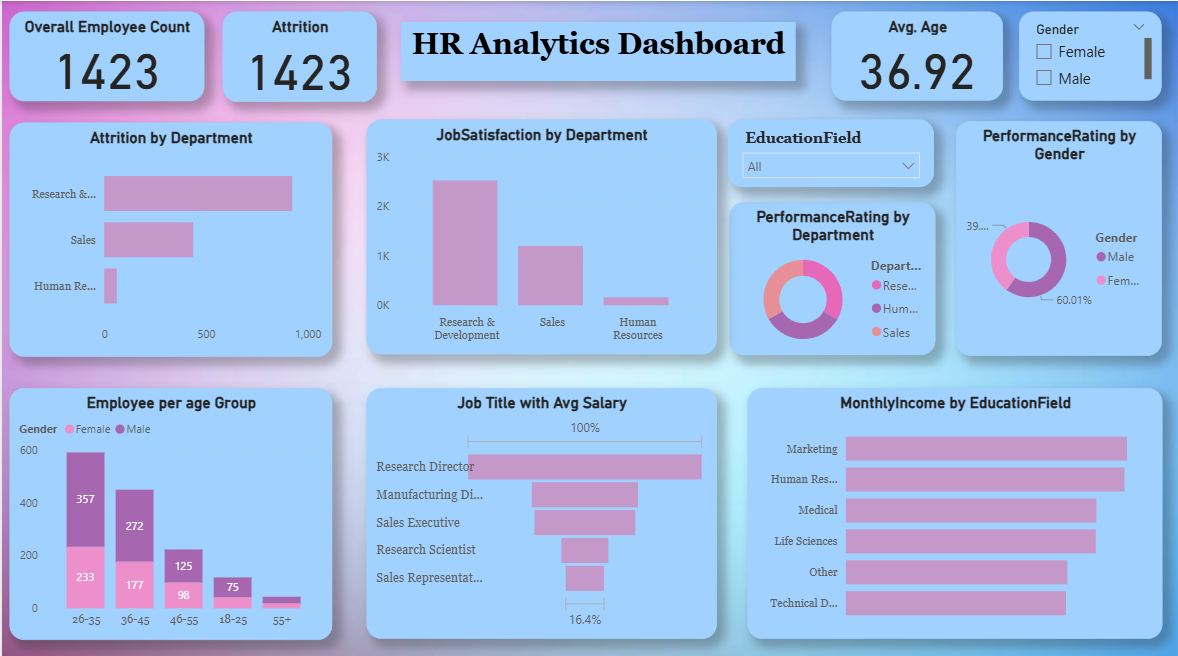

Layout of this report page (visuals, bound fields, positions):
{"tool":"powerbi","page":{"name":"Page 1","canvas":[1280,720],"ordinal":0},"visuals":[{"type":"textbox","box":[432.9,23.4,428.3,64.1],"z":0},{"type":"barChart","title":"Attrition by Department","fields":{"Category":["HR_Analytics.Department"],"Y":["CountNonNull(HR_Analytics.Attrition)"]},"box":[8.1,131.8,349.7,253.7],"z":1000},{"type":"funnel","title":"Job Title with Avg Salary","fields":{"Category":["HR_Analytics.JobRole"],"Y":["Avg(HR_Analytics.MonthlyIncome)"]},"box":[395.4,420.4,379.8,272],"z":2000},{"type":"columnChart","title":"Employee per age Group","fields":{"Category":["HR_Analytics.AgeGroup"],"Y":["CountNonNull(HR_Analytics.EmployeeNumber)"],"Series":["HR_Analytics.Gender"]},"box":[8.1,419.6,349.7,273.3],"z":3000},{"type":"barChart","title":"MonthlyIncome by EducationField ","fields":{"Category":["HR_Analytics.EducationField"],"Y":["Avg(HR_Analytics.MonthlyIncome)"]},"box":[808.1,420.4,450.1,272],"z":4000},{"type":"donutChart","title":"PerformanceRating by Department","fields":{"Category":["HR_Analytics.Department"],"Y":["Avg(HR_Analytics.PerformanceRating)"]},"box":[789.3,217.3,223.5,165.7],"z":5000},{"type":"donutChart","title":"PerformanceRating by Gender","fields":{"Category":["HR_Analytics.Gender"],"Y":["CountNonNull(HR_Analytics.PerformanceRating)"]},"box":[1034.7,129.7,223.5,254.8],"z":6000},{"type":"card","title":"Avg. Age","fields":{"Values":["Avg(HR_Analytics.Age)"]},"box":[900.3,10.9,186,96.9],"z":7000},{"type":"card","title":"Overall Employee Count","fields":{"Values":["CountNonNull(HR_Analytics.EmployeeCount)"]},"box":[8.1,11.4,211.5,97.6],"z":8000},{"type":"card","title":"Attrition","fields":{"Values":["CountNonNull(HR_Analytics.Attrition)"]},"box":[238.4,11.1,167.4,97.9],"z":9000},{"type":"clusteredColumnChart","title":"JobSatisfaction by Department","fields":{"Category":["HR_Analytics.Department"],"Y":["Sum(HR_Analytics.JobSatisfaction)"]},"box":[395.4,128.2,379.8,254.8],"z":10000},{"type":"slicer","fields":{"Values":["HR_Analytics.Gender"]},"box":[1103.5,10.9,154.7,96.9],"z":11000},{"type":"slicer","fields":{"Values":["HR_Analytics.EducationField"]},"box":[787.7,128.2,223.5,73.5],"z":12000}]}

Visuals, with their boxes in screenshot pixels (x1, y1, x2, y2), scaled from the page's 1280x720 canvas onto the 1178x656 screenshot:
textbox: [398,21,793,80]
"Attrition by Department" barChart: [7,120,329,351]
"Job Title with Avg Salary" funnel: [364,383,713,631]
"Employee per age Group" columnChart: [7,382,329,631]
"MonthlyIncome by EducationField " barChart: [744,383,1158,631]
"PerformanceRating by Department" donutChart: [726,198,932,349]
"PerformanceRating by Gender" donutChart: [952,118,1158,350]
"Avg. Age" card: [829,10,1000,98]
"Overall Employee Count" card: [7,10,202,99]
"Attrition" card: [219,10,373,99]
"JobSatisfaction by Department" clusteredColumnChart: [364,117,713,349]
slicer - HR_Analytics.Gender: [1016,10,1158,98]
slicer - HR_Analytics.EducationField: [725,117,931,184]
